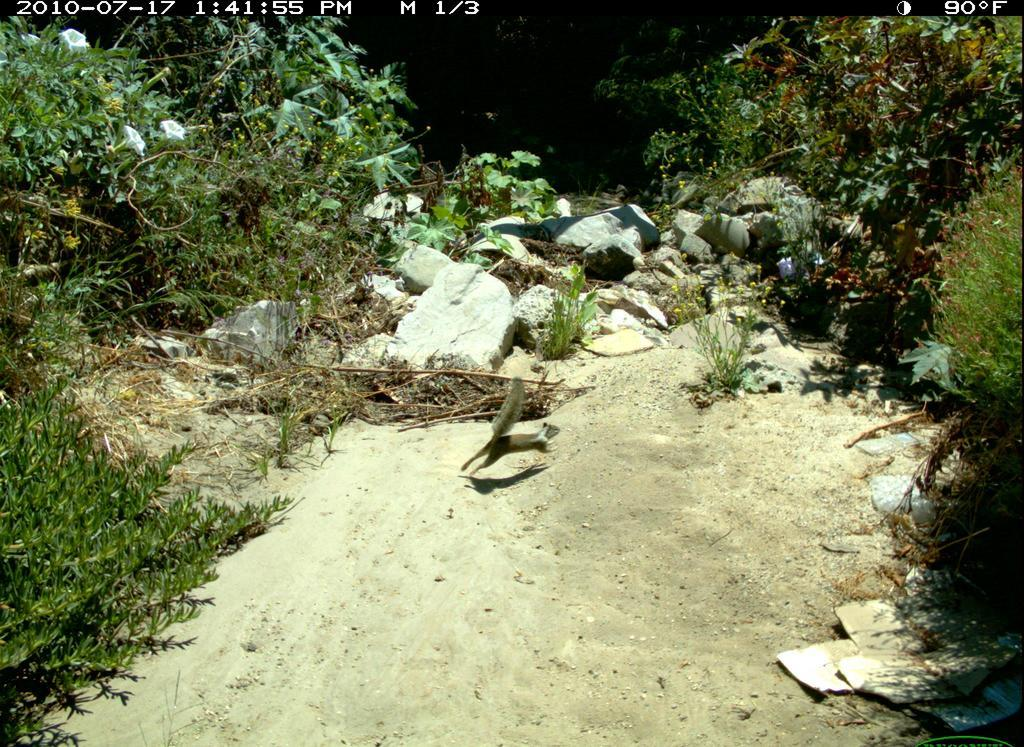squirrel: (459, 372, 566, 484)
